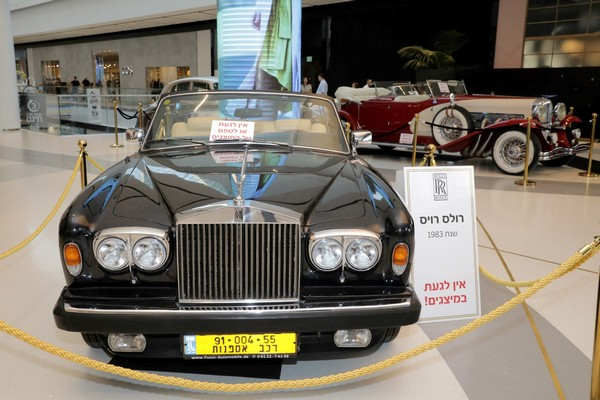licence: (179, 332, 299, 362)
